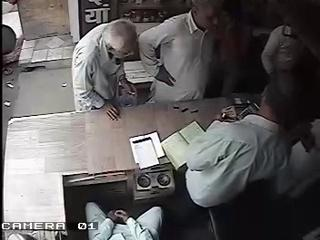Normal: (184, 59, 319, 239), (137, 0, 225, 104), (71, 19, 140, 121), (85, 202, 163, 239)
